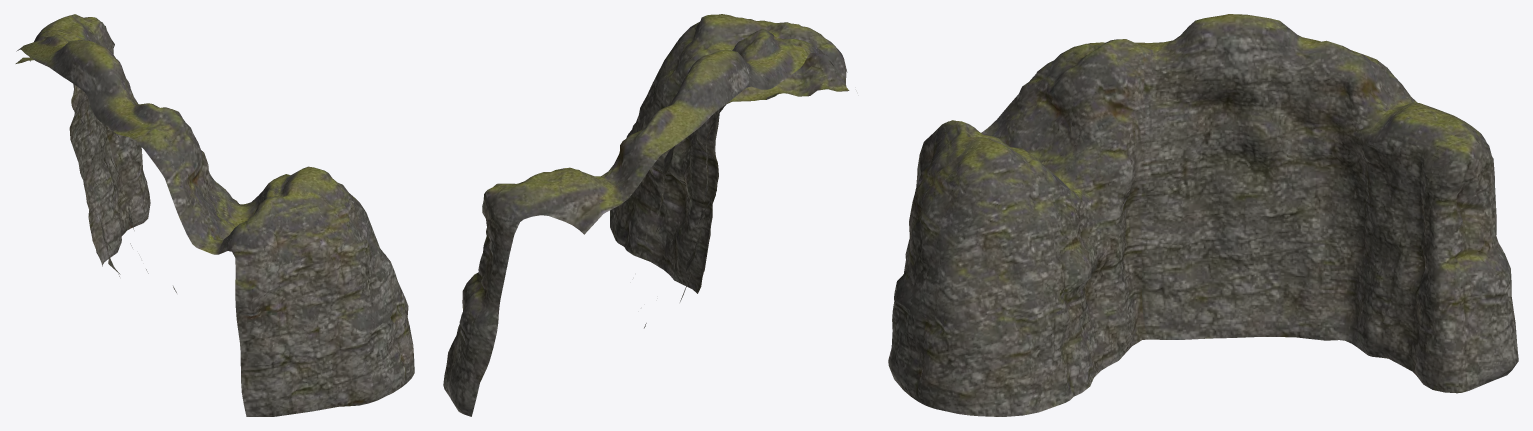
File: CAER_Big_Cliff-transformed.glb
3 renders of one model, left to right at view 1: azimuth 30°, elevation 25°; view 2: azimuth 150°, elevation 25°; view 3: azimuth 270°, elevation 25°, orthographic. The views are drawn at different scales.
Parts seen in each view (by area): view 1: default; view 2: default; view 3: default.
Part boxes in pixels (bbox=[...]): default: bbox=[15, 14, 414, 416]; default: bbox=[443, 14, 849, 416]; default: bbox=[888, 14, 1518, 416].
Size of the model in its own units: 53.53 by 61.35 by 117.
Materials: 1 (1 with a texture image).
